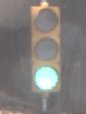Green: (26, 5, 67, 105)
